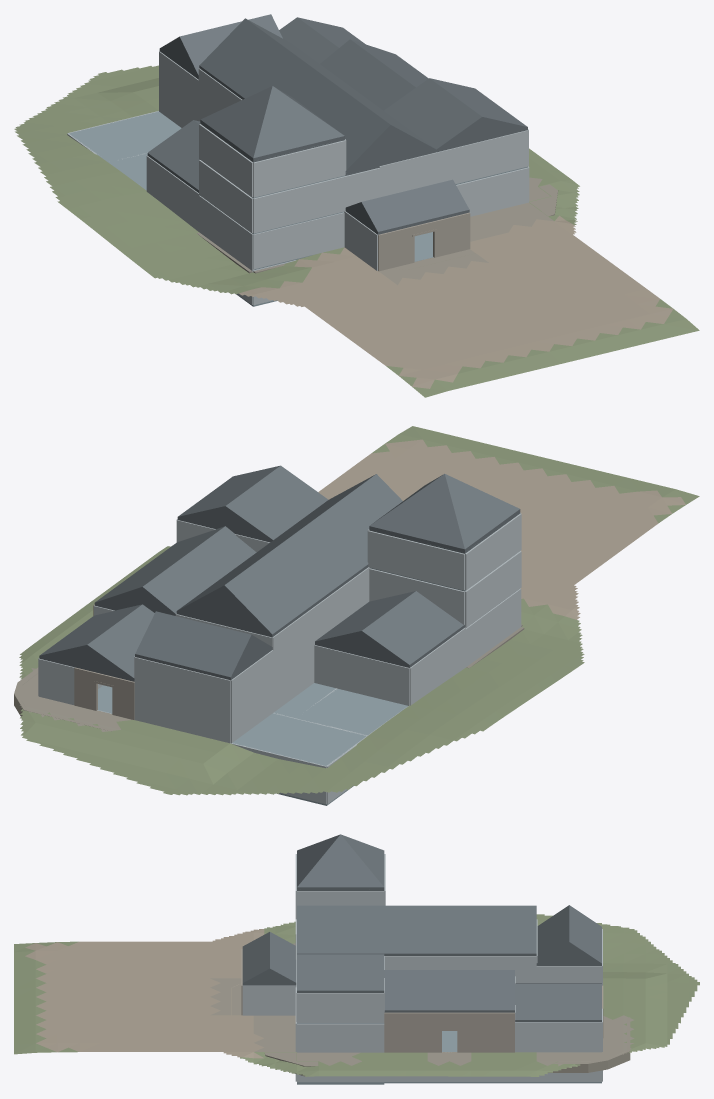
The model's file is fitted-approaches.glb.
3 renders of one model, top to bottom at view 1: azimuth 30°, elevation 25°; view 2: azimuth 150°, elevation 25°; view 3: azimuth 270°, elevation 25°, orthographic. The views are drawn at different scales.
Parts seen in each view (by area): view 1: CHURCH saved ground, nave-and-choir roof west, music-and-crypt-entry roof west, vestibule roof south, belfry hip face 2, CHURCH bay wall ('z', 34, 10, 18, 3, 6) end region0, CHURCH bay wall ('z', 34, 10, 18, 6, 9) end region0, side-chapel roof west, belfry hip face 3, Ceiling cap vault-north, CHURCH bay wall ('z', 34, 26, 34, 0, 3) end region0, Wall chancel W (+27 smaller); view 2: CHURCH saved ground, nave-and-choir roof west, Wall chancel N, chancel roof north, side-chapel roof west, confessional-and-consultation roof west, Wall nave W, music-and-crypt-entry roof west, belfry hip face 0, CHURCH bay wall ('z', 26, 10, 18, 6, 9) end region0, Wall chancel W, belfry hip face 3 (+32 smaller); view 3: CHURCH saved ground, nave-and-choir roof east, side-chapel roof east, music-and-crypt-entry roof east, vestry roof east, CHURCH bay wall ('x', 34, 26, 34, 0, 3) end region0, belfry hip face 1, St. Brigid Parish chapel E facade chapel e exterior doorway , St. Brigid Parish chapel E facade end pier region0, Wall vestibule E, Wall nave E, Wall vestry-wash E (+20 smaller).
Part boxes in pixels (box(x1,y1,x2,y2)): CHURCH saved ground: box(14, 65, 699, 397); nave-and-choir roof west: box(199, 18, 390, 172); music-and-crypt-entry roof west: box(384, 78, 482, 151); vestibule roof south: box(361, 179, 469, 234); belfry hip face 2: box(253, 86, 344, 160); CHURCH bay wall ('z', 34, 10, 18, 3, 6) end region0: box(253, 176, 345, 233); CHURCH bay wall ('z', 34, 10, 18, 6, 9) end region0: box(253, 140, 345, 197); side-chapel roof west: box(320, 39, 415, 110); belfry hip face 3: box(200, 86, 272, 160); Ceiling cap vault-north: box(69, 111, 181, 152); CHURCH bay wall ('z', 34, 26, 34, 0, 3) end region0: box(456, 167, 528, 216); Wall chancel W: box(159, 51, 198, 127); CHURCH saved ground: box(19, 426, 699, 795); nave-and-choir roof west: box(224, 474, 402, 636); Wall chancel N: box(134, 657, 230, 743); chancel roof north: box(135, 611, 251, 679); side-chapel roof west: box(142, 526, 256, 615); confessional-and-consultation roof west: box(361, 591, 464, 667); Wall nave W: box(272, 590, 338, 712); music-and-crypt-entry roof west: box(225, 465, 328, 541); belfry hip face 0: box(369, 474, 464, 551); CHURCH bay wall ('z', 26, 10, 18, 6, 9) end region0: box(368, 530, 464, 590); Wall chancel W: box(231, 650, 273, 743); belfry hip face 3: box(445, 474, 520, 551); CHURCH saved ground: box(14, 914, 699, 1076); nave-and-choir roof east: box(297, 905, 536, 955); side-chapel roof east: box(384, 970, 514, 1012); music-and-crypt-entry roof east: box(297, 954, 384, 992); vestry roof east: box(515, 984, 601, 1022); CHURCH bay wall ('x', 34, 26, 34, 0, 3) end region0: box(297, 1023, 384, 1052); belfry hip face 1: box(297, 834, 383, 889); St. Brigid Parish chapel E facade chapel e exterior doorway : box(459, 1012, 514, 1052); St. Brigid Parish chapel E facade end pier region0: box(384, 1012, 439, 1052); Wall vestibule E: box(242, 985, 296, 1015); Wall nave E: box(456, 956, 536, 983); Wall vestry-wash E: box(558, 1022, 601, 1052).
Size of the model in its own units: 36 by 16.16 by 63.
